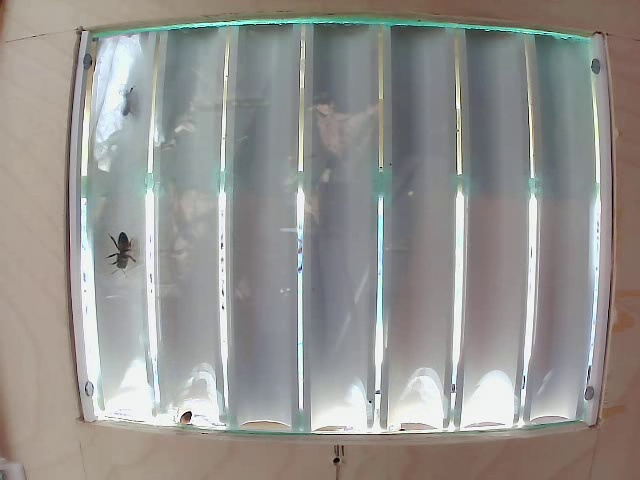bee: (106, 216, 136, 273)
